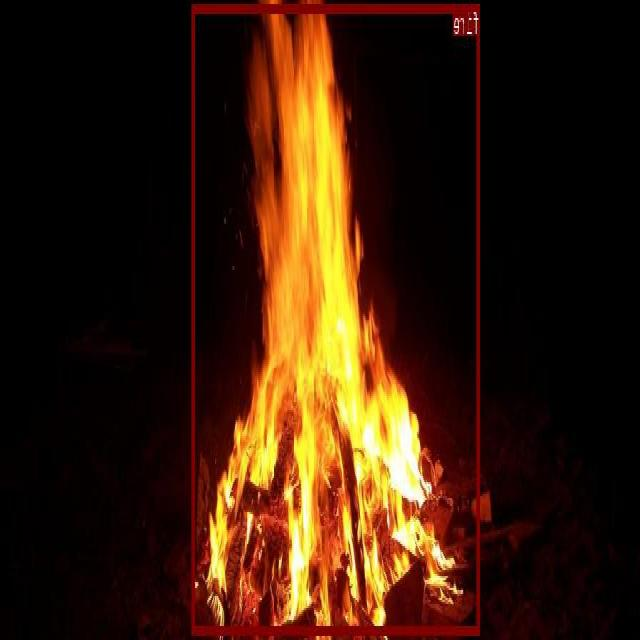fire: (193, 2, 480, 634)
